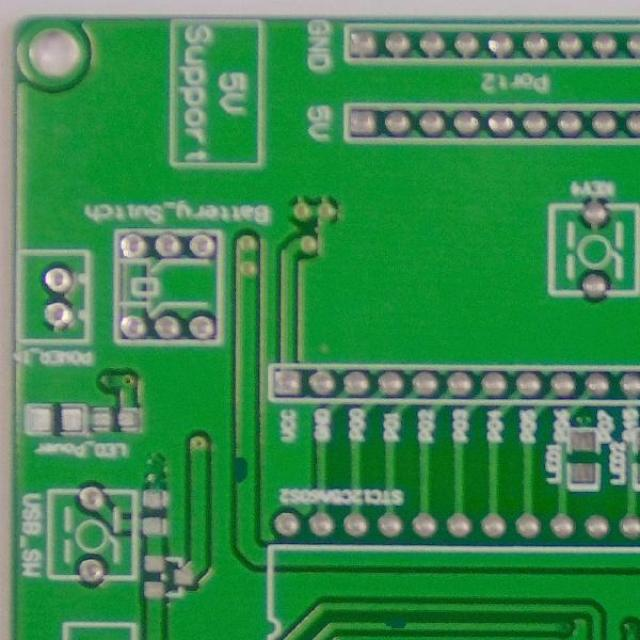mouse_bite: (224, 451, 257, 490), (380, 614, 414, 636)
